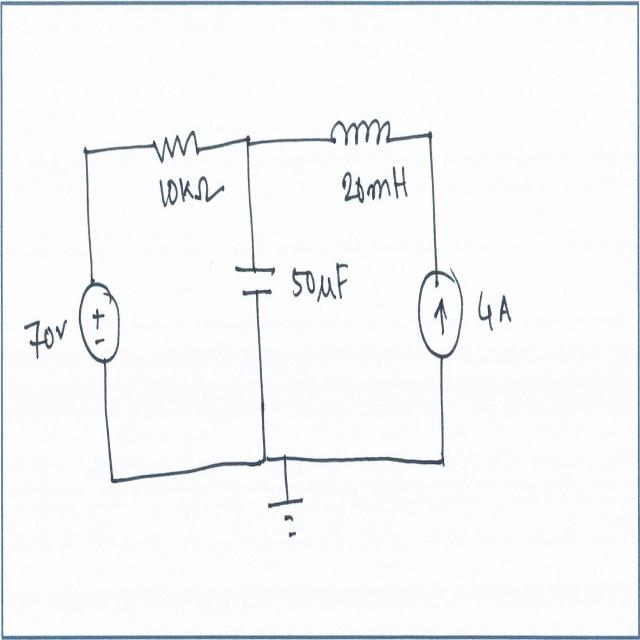capacitor: (234, 254, 279, 305)
current_source: (415, 266, 467, 366)
ground: (264, 490, 310, 549)
inductor: (324, 105, 395, 160)
resistor: (147, 124, 203, 168)
voltage_source: (76, 270, 124, 369)
